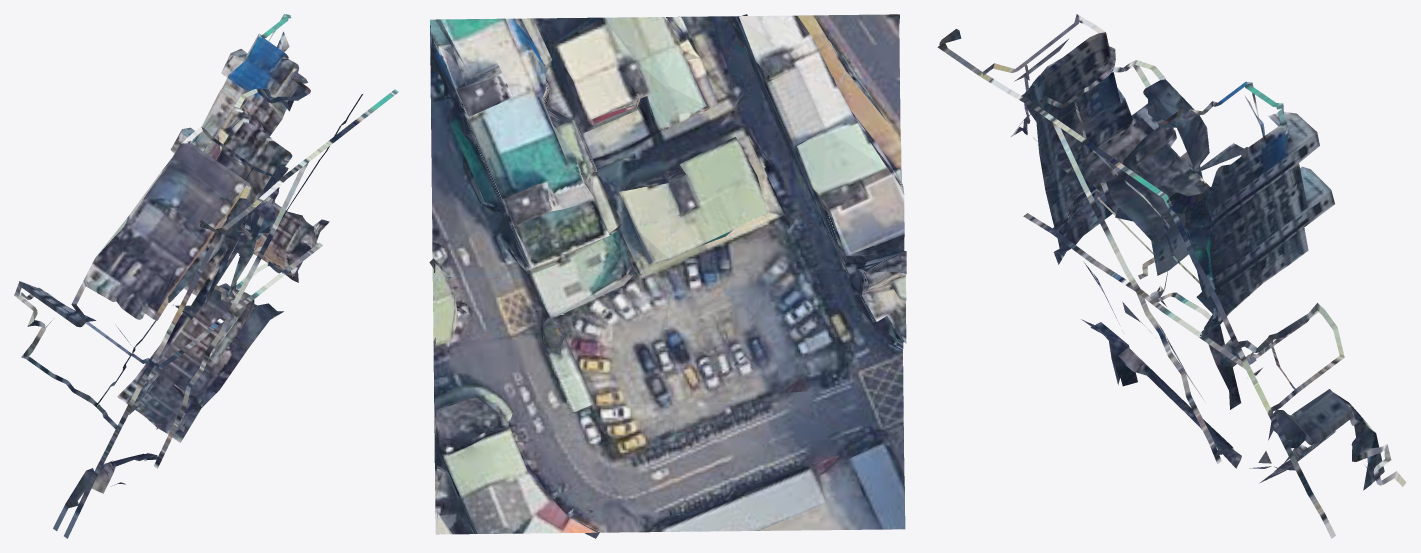
3 renders of one model, left to right at view 1: azimuth 30°, elevation 25°; view 2: azimuth 150°, elevation 25°; view 3: azimuth 270°, elevation 25°, orthographic. The views are drawn at different scales.
Size of the model in its own units: 81.5 by 80.19 by 76.34.
1 material, 1 textured.
